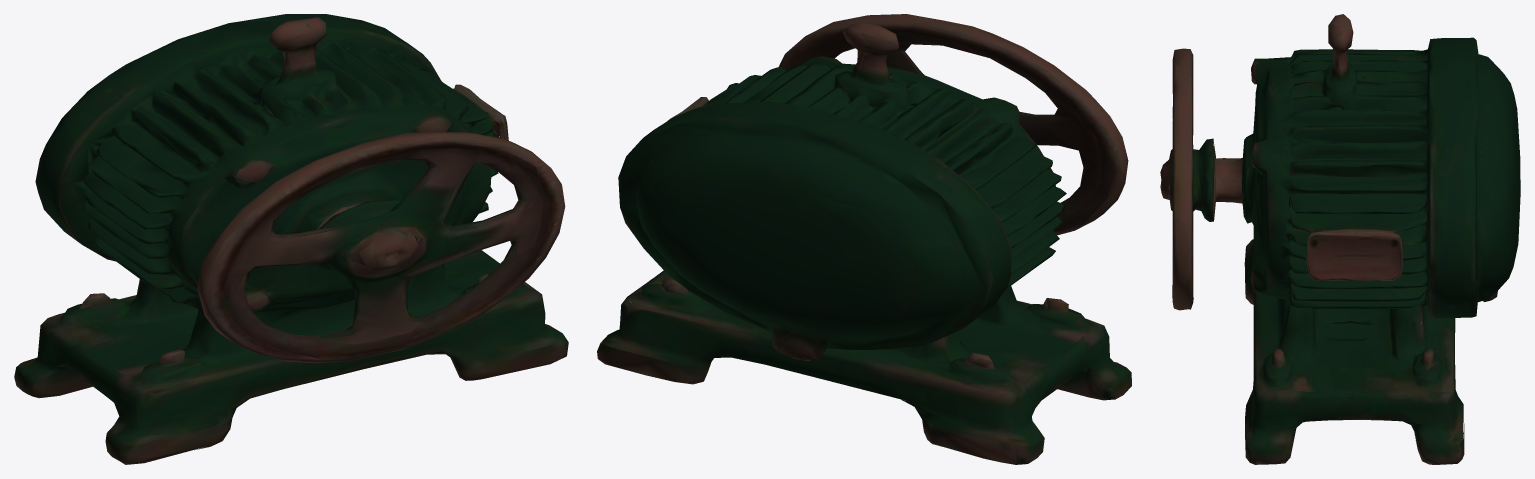
The model's file is motor_cerrado.glb.
3 renders of one model, left to right at view 1: azimuth 30°, elevation 25°; view 2: azimuth 150°, elevation 25°; view 3: azimuth 270°, elevation 25°, orthographic. The views are drawn at different scales.
Visible parts, largest first — view 1: geometry_0; view 2: geometry_0; view 3: geometry_0.
Part boxes in pixels (left/top/right/bottom): geometry_0: left=14, top=14, right=568, bottom=464; geometry_0: left=597, top=14, right=1131, bottom=464; geometry_0: left=1160, top=14, right=1520, bottom=464.
Size of the model in its own units: 0.5499 by 0.4204 by 0.4.
1 material, 1 textured.
